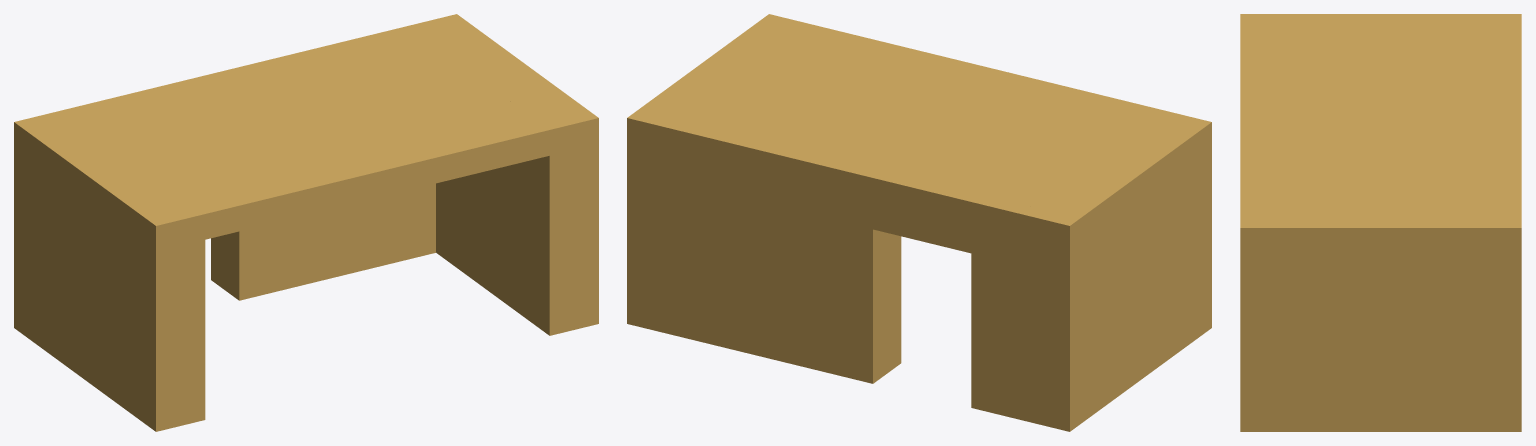
File: casa3baseB.obj
The picture shows the model from 3 angles, left to right: view 1: azimuth 30°, elevation 25°; view 2: azimuth 150°, elevation 25°; view 3: azimuth 270°, elevation 25°; orthographic projection.
Visible parts, largest first — view 1: Wall.022; view 2: Wall.022; view 3: Wall.022.
Boxes of the visible parts, box(x1,y1,x2,y2) form: Wall.022: box(14, 14, 598, 431); Wall.022: box(627, 14, 1211, 431); Wall.022: box(1240, 14, 1521, 431).
Bounding box in the file's own units: 9 × 4 × 5.
Materials: 7 (7 with a texture image).
